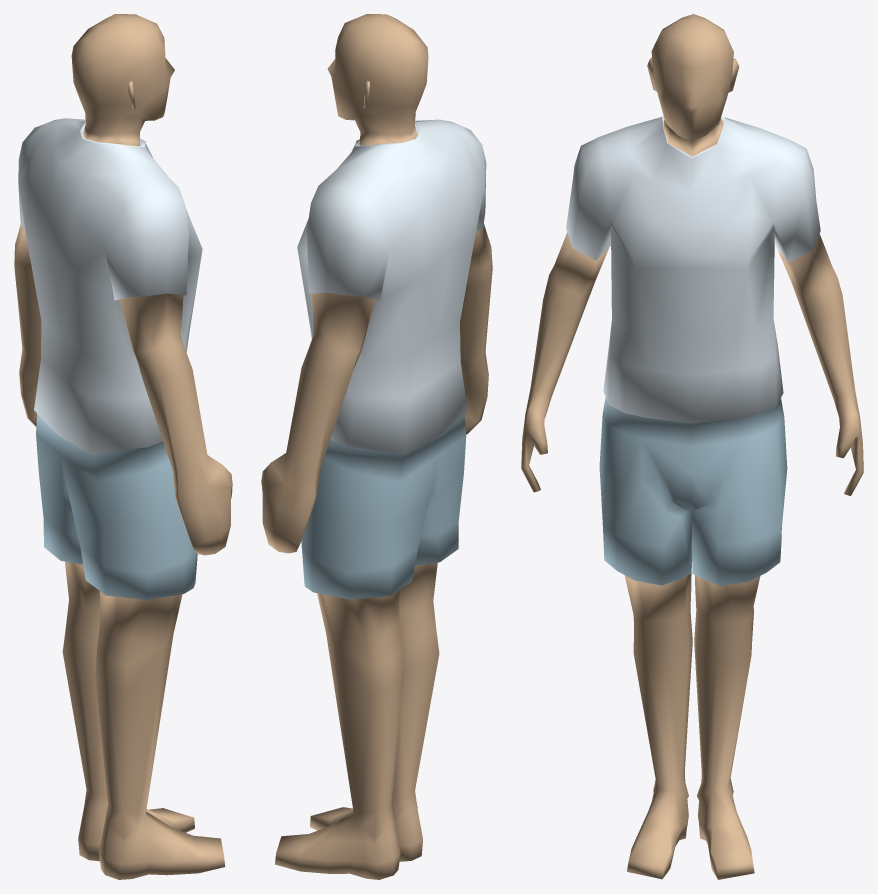
File: lowpoly_dude.glb
The picture shows the model from 3 angles, left to right: view 1: azimuth 30°, elevation 25°; view 2: azimuth 150°, elevation 25°; view 3: azimuth 270°, elevation 25°; orthographic projection. The views are drawn at different scales.
Parts seen in each view (by area): view 1: dude.002; view 2: dude.002; view 3: dude.002.
Part boxes in pixels (x1=…): dude.002: x1=14, y1=14, x2=232, y2=879; dude.002: x1=261, y1=14, x2=492, y2=879; dude.002: x1=521, y1=14, x2=863, y2=879.
Bounding box in the file's own units: 0.3865 × 1.96 × 0.7402.
